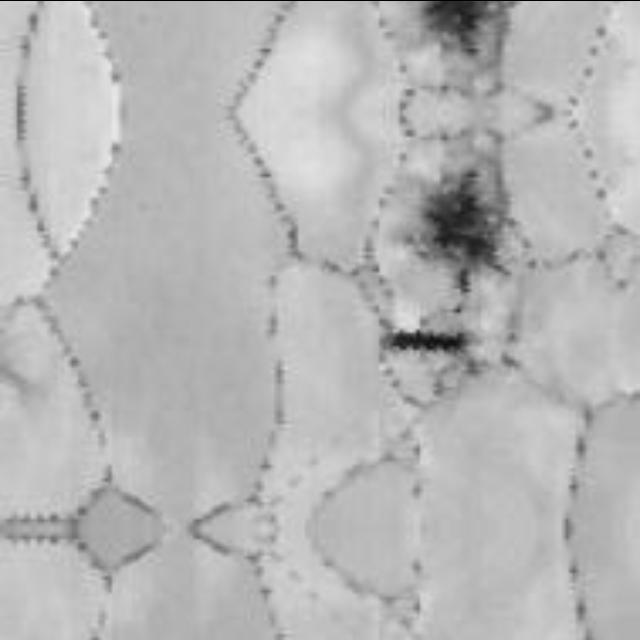good_void: (406, 164, 520, 274), (417, 0, 519, 57), (384, 325, 468, 356), (451, 264, 480, 297), (452, 304, 465, 315)
